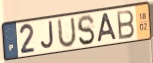2: (18, 22, 37, 56)
A: (97, 12, 118, 44)
B: (116, 8, 136, 41)
J: (40, 20, 56, 51)
S: (76, 14, 97, 47)
U: (57, 15, 78, 50)
